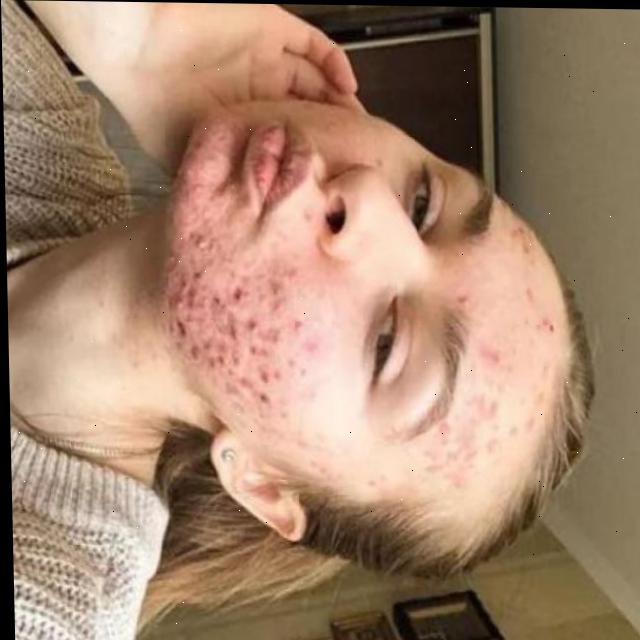Acne: (406, 217, 563, 491), (166, 225, 324, 486)
